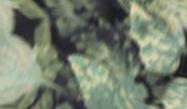Tomato mold leaf: (59, 23, 158, 109), (121, 0, 187, 80), (0, 29, 48, 103)
